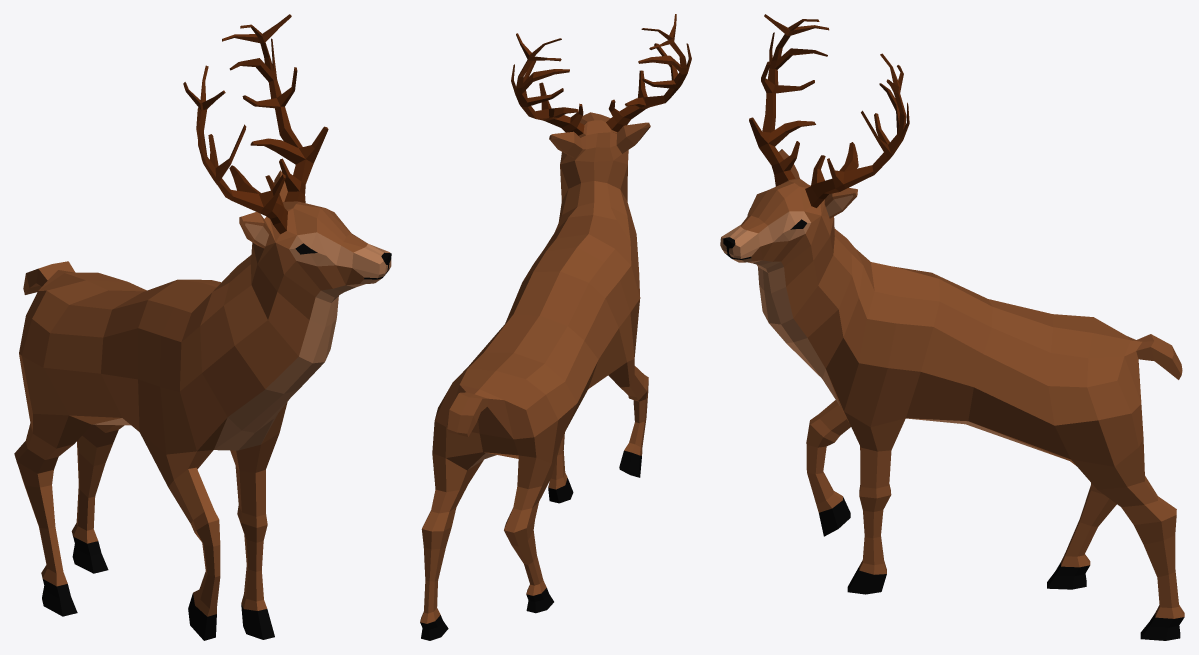
The model's file is stag.glb.
The picture shows the model from 3 angles, left to right: view 1: azimuth 30°, elevation 25°; view 2: azimuth 150°, elevation 25°; view 3: azimuth 270°, elevation 25°; orthographic projection. The views are drawn at different scales.
Visible parts, largest first — view 1: stag; view 2: stag; view 3: stag.
Boxes of the visible parts, x1,y1,x2,y2 form: stag: (14, 14, 391, 640); stag: (420, 14, 691, 640); stag: (720, 14, 1184, 640).
Bounding box in the file's own units: 0.6562 × 2.3 × 1.66.
Materials: 1 (1 with a texture image).
